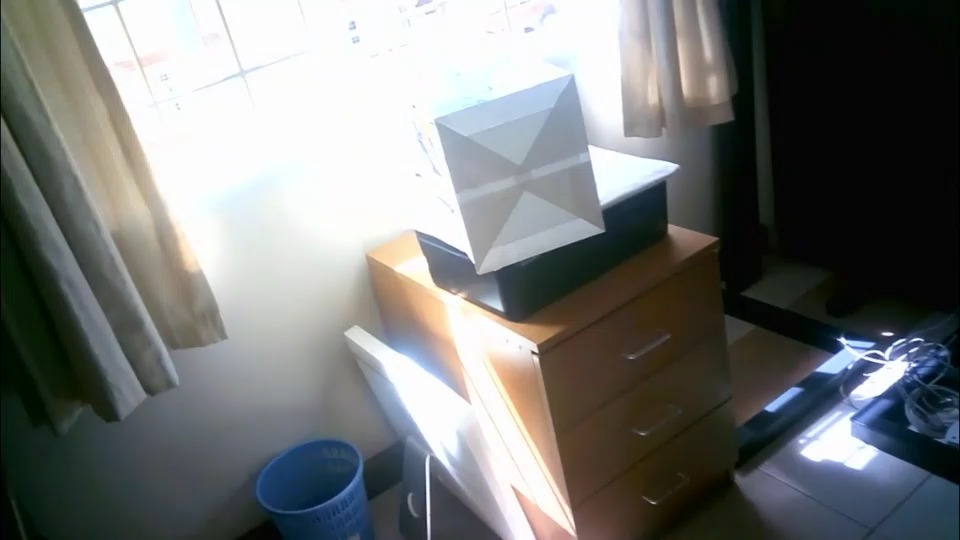wheat_flour_blue_label: (406, 61, 606, 269)
